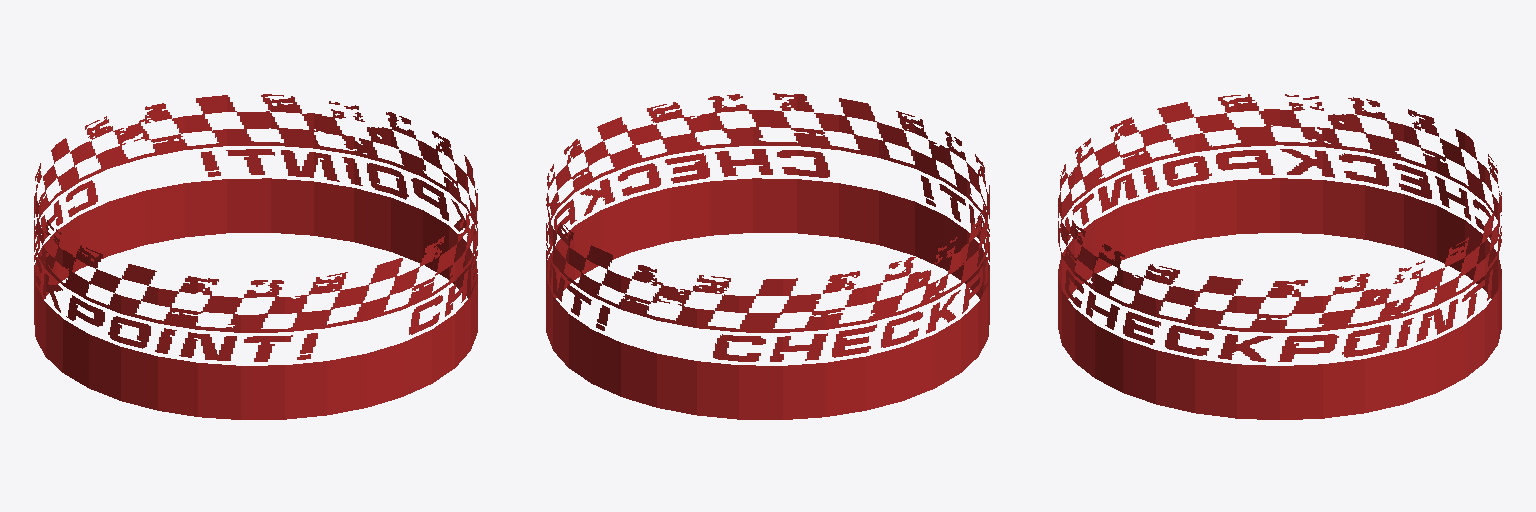
The picture shows the model from 3 angles: view 1: azimuth 30°, elevation 25°; view 2: azimuth 150°, elevation 25°; view 3: azimuth 270°, elevation 25°; orthographic projection.
Visible parts, largest first — view 1: pod2-check; view 2: pod2-check; view 3: pod2-check.
Boxes of the visible parts, <box> form: pod2-check: <box>34,94,477,419</box>; pod2-check: <box>546,93,989,419</box>; pod2-check: <box>1058,94,1501,419</box>.
Size of the model in its own units: 11.73 by 4.11 by 11.73.
Materials: 1 (1 with a texture image).